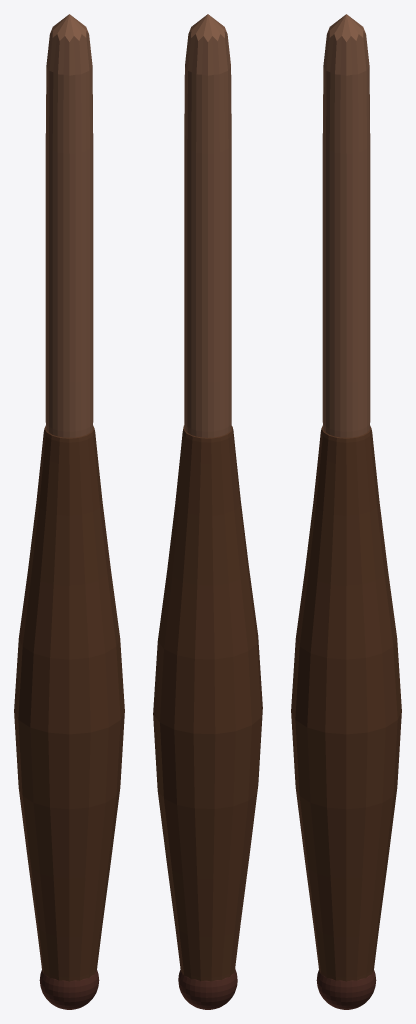
The model's file is Wand 113.glb.
3 views of the same model, side by side, from view 1: azimuth 90°, elevation 25°; view 2: azimuth 210°, elevation 25°; view 3: azimuth 270°, elevation 25° (orthographic).
Parts seen in each view (by area): view 1: GeneratedWand; view 2: GeneratedWand; view 3: GeneratedWand.
Boxes of the visible parts, bbox=[...] form: GeneratedWand: bbox=[14, 14, 124, 1009]; GeneratedWand: bbox=[153, 14, 262, 1009]; GeneratedWand: bbox=[291, 14, 401, 1009].
Size of the model in its own units: 0.0499 by 0.4926 by 0.0499.
